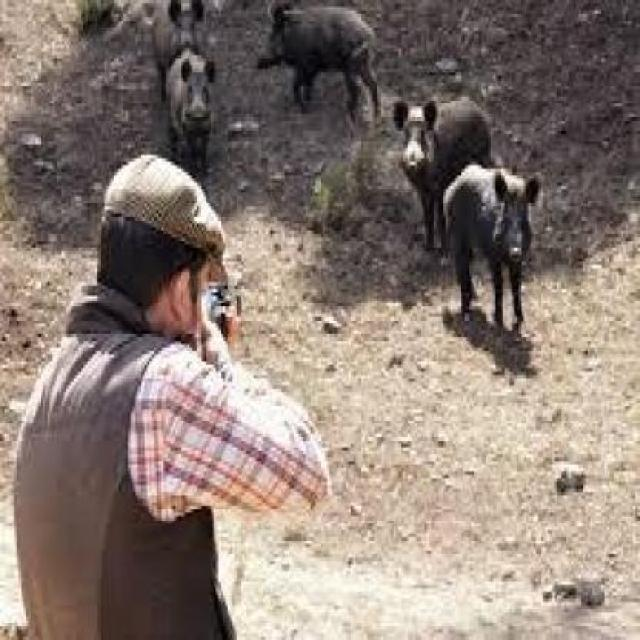wildboar: (436, 155, 542, 336), (251, 0, 383, 126), (396, 88, 496, 252), (162, 46, 222, 180), (146, 0, 212, 114)
